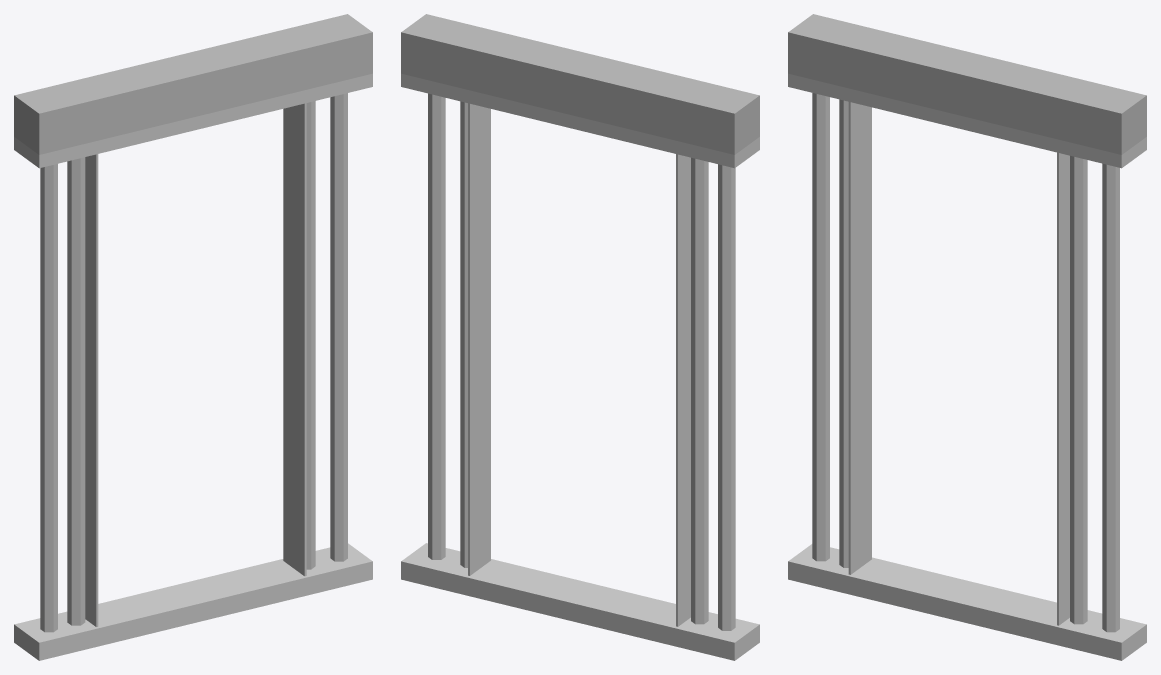
File: P_Jail_Wall_Door.fbx
3 views of the same model, side by side, from view 1: azimuth 30°, elevation 25°; view 2: azimuth 150°, elevation 25°; view 3: azimuth 330°, elevation 25° (orthographic).
Visible parts, largest first — view 1: P_Jail_Wall_Door; view 2: P_Jail_Wall_Door; view 3: P_Jail_Wall_Door.
Boxes of the visible parts, x1,y1,x2,y2 form: P_Jail_Wall_Door: [14, 14, 372, 660]; P_Jail_Wall_Door: [401, 14, 759, 660]; P_Jail_Wall_Door: [788, 14, 1146, 660].
Bounding box in the file's own units: 1000 × 130 × 1568.
